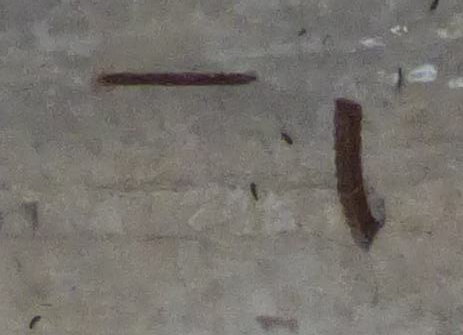Exposed reinforcement: (333, 96, 382, 254), (94, 71, 257, 87)
